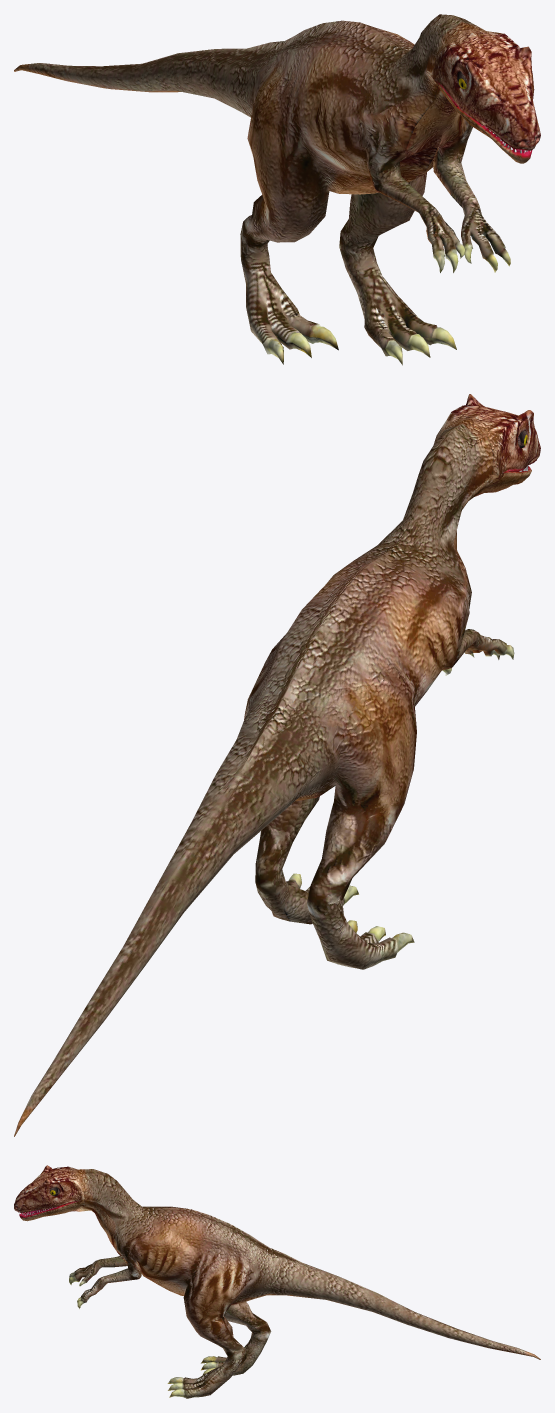
Rendered from allosaurus_sketchfab.glb.
3 views of the same model, one above another, from view 1: azimuth 30°, elevation 25°; view 2: azimuth 150°, elevation 25°; view 3: azimuth 270°, elevation 25° (orthographic). The views are drawn at different scales.
Visible parts, largest first — view 1: Object_8; view 2: Object_8; view 3: Object_8.
Part boxes in pixels (<box>): Object_8: <box>14,14,540,365</box>; Object_8: <box>14,394,540,1136</box>; Object_8: <box>14,1165,540,1398</box>.
Bounding box in the file's own units: 2.87 × 7.46 × 16.81.
Materials: 1 (1 with a texture image).
